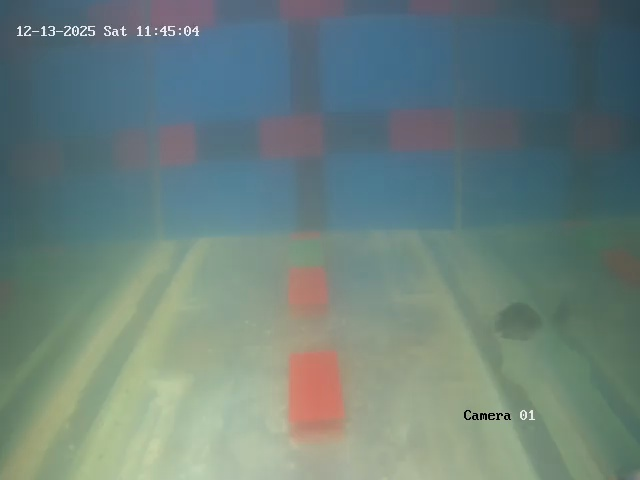fish: (485, 290, 542, 346)
